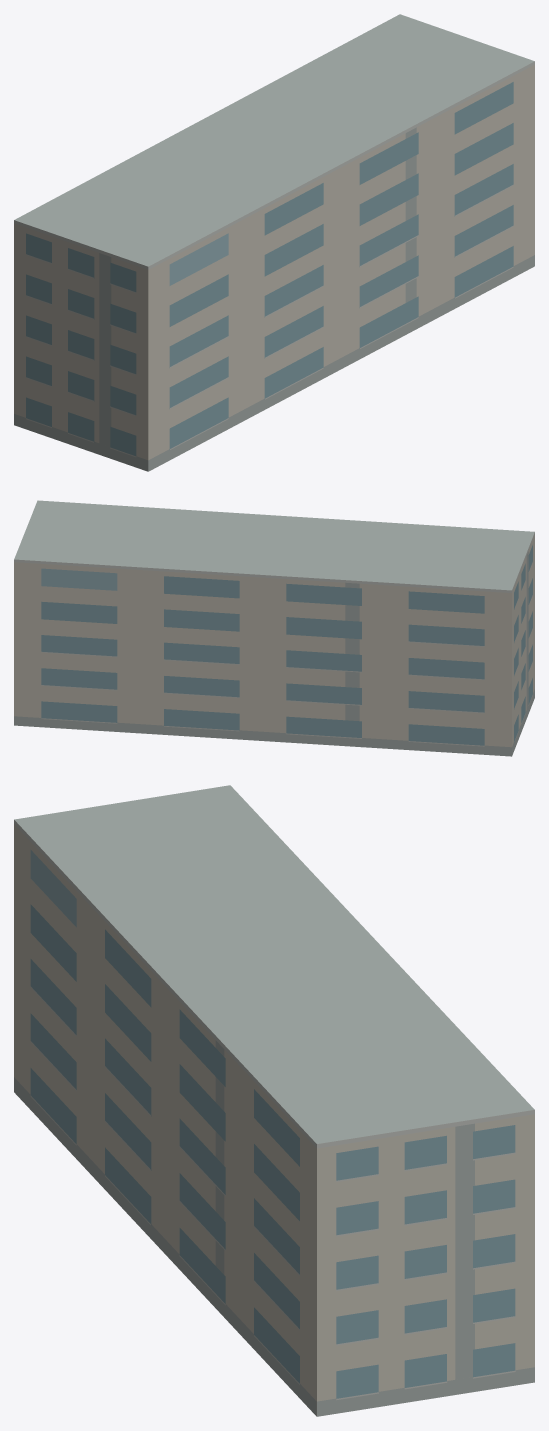
File: survey-upis-32855851.glb
3 views of the same model, one above another, from view 1: azimuth 30°, elevation 25°; view 2: azimuth 150°, elevation 25°; view 3: azimuth 270°, elevation 25° (orthographic). The views are drawn at different scales.
Parts seen in each view (by area): view 1: survey-upis-32855851.tmp; view 2: survey-upis-32855851.tmp; view 3: survey-upis-32855851.tmp.
Boxes of the visible parts, left/top/right/bottom form: survey-upis-32855851.tmp: left=14, top=14, right=534, bottom=471; survey-upis-32855851.tmp: left=14, top=500, right=534, bottom=756; survey-upis-32855851.tmp: left=14, top=785, right=534, bottom=1416.
Size of the model in its own units: 43.07 by 15.25 by 26.41.
